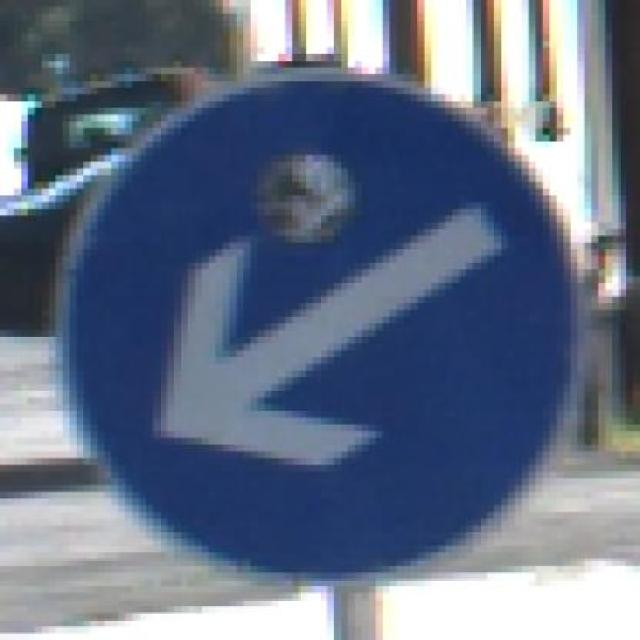Keep-Left: (62, 53, 606, 593)
